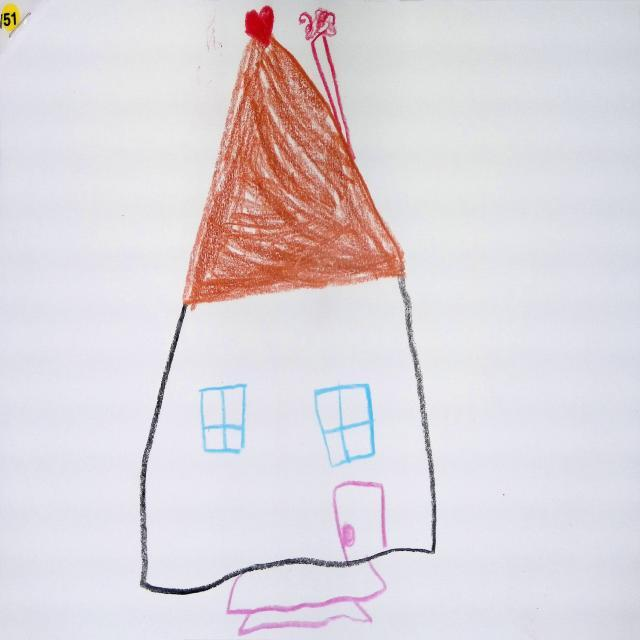chimney: (312, 31, 353, 164)
door: (334, 482, 388, 560)
house: (140, 6, 436, 596)
roof: (184, 6, 405, 306)
wall: (141, 279, 435, 591)
window: (316, 385, 375, 468), (202, 386, 247, 454)
